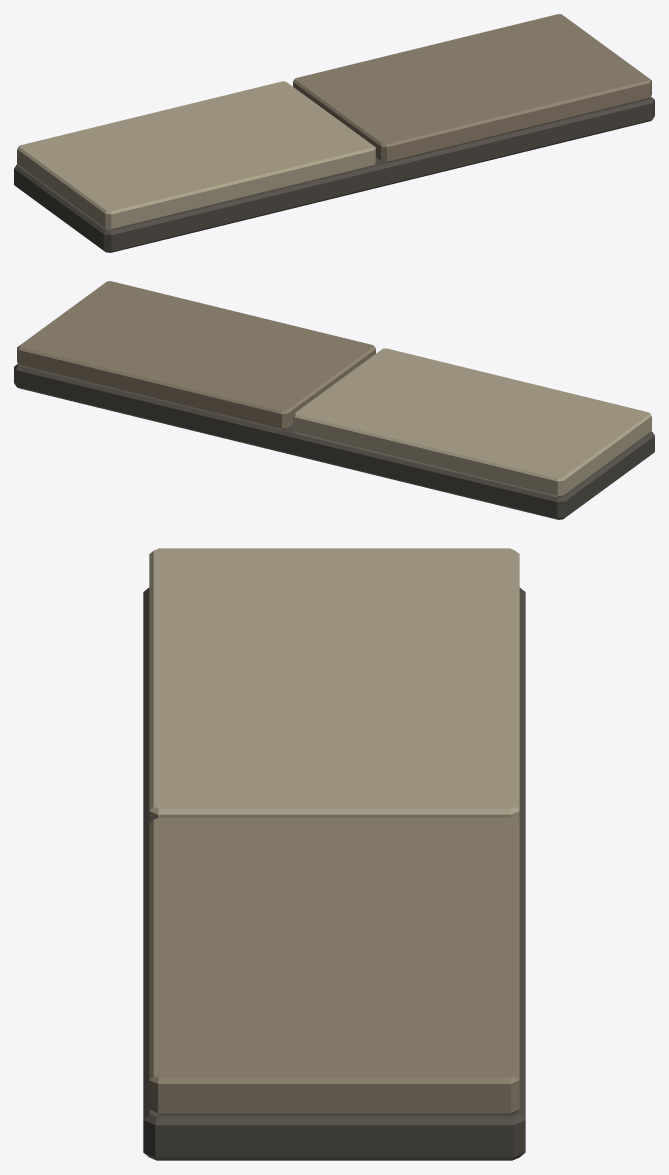
Rendered from floor-threshold.glb.
3 views of the same model, one above another, from view 1: azimuth 30°, elevation 25°; view 2: azimuth 150°, elevation 25°; view 3: azimuth 270°, elevation 25° (orthographic). The views are drawn at different scales.
Visible parts, largest first — view 1: floor-threshold__body; view 2: floor-threshold__body; view 3: floor-threshold__body.
Boxes of the visible parts, left/top/right/bottom form: floor-threshold__body: left=14, top=14, right=654, bottom=252; floor-threshold__body: left=14, top=281, right=654, bottom=519; floor-threshold__body: left=143, top=548, right=525, bottom=1160.
Bounding box in the file's own units: 2 × 0.14 × 0.6.
